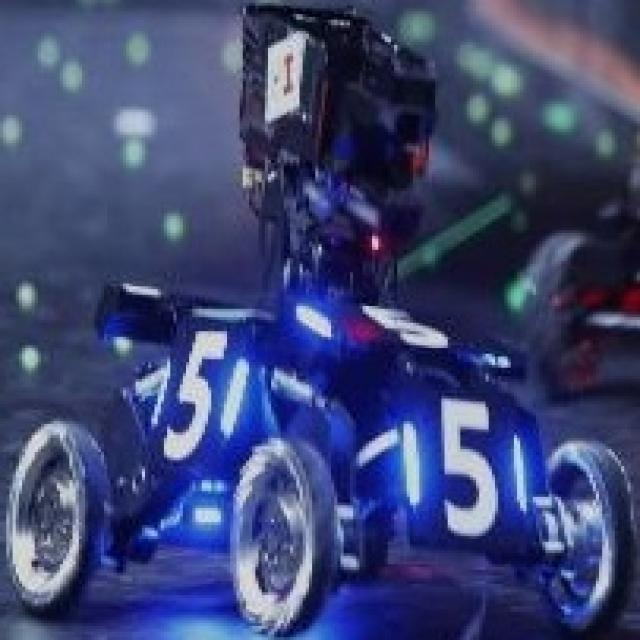B5: (400, 387, 533, 539), (145, 320, 252, 463)
